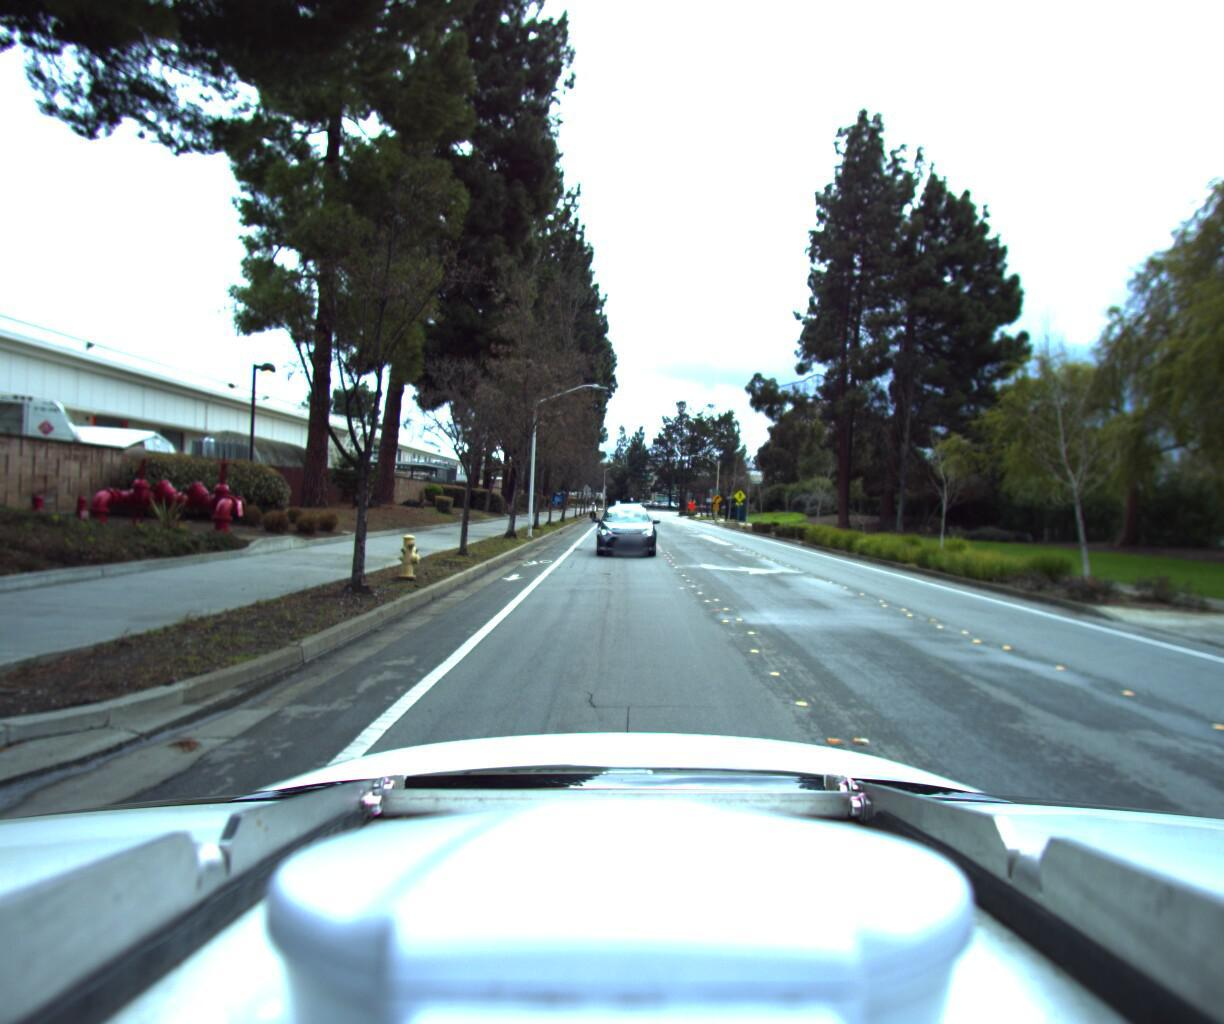bicycle: (586, 495, 599, 517)
car: (589, 497, 656, 552)
truck: (0, 371, 83, 523)
